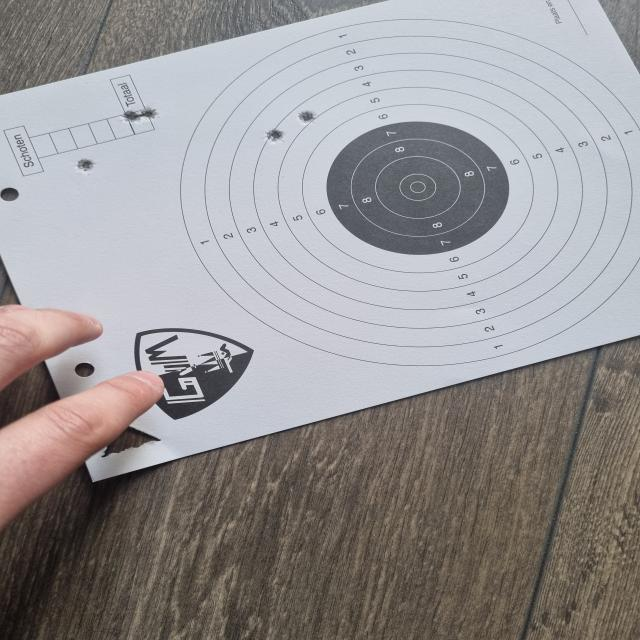0: (74, 159, 96, 171), (138, 107, 158, 120), (122, 111, 140, 122)
4: (264, 128, 286, 143)
5: (298, 111, 317, 124)
Target: (178, 19, 640, 368)
black_contour: (326, 120, 512, 254)
